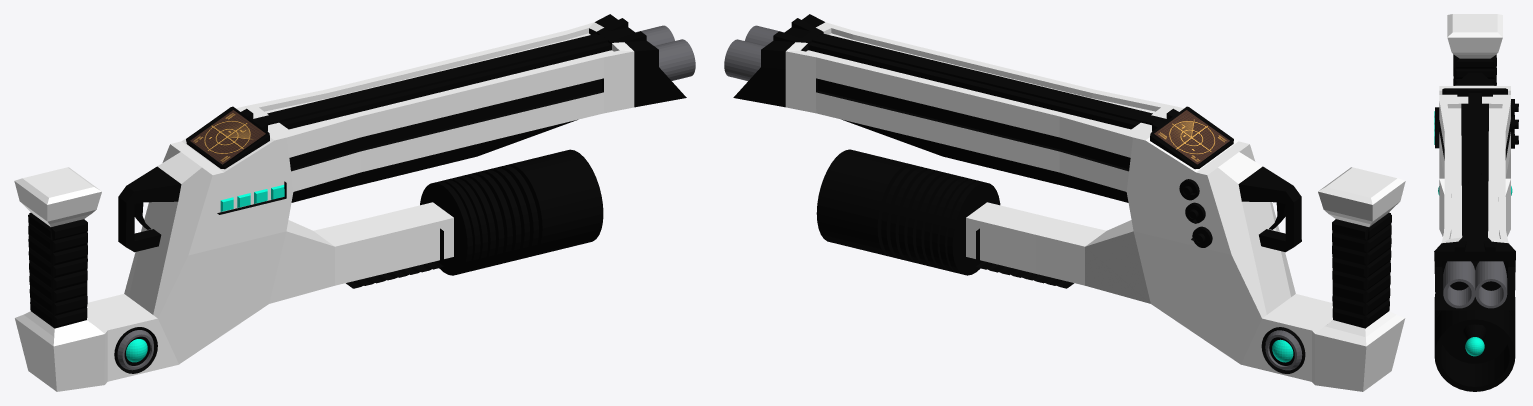
The model's file is Fagerone gun final.fbx.
The picture shows the model from 3 angles, left to right: view 1: azimuth 30°, elevation 25°; view 2: azimuth 150°, elevation 25°; view 3: azimuth 270°, elevation 25°; orthographic projection. The views are drawn at different scales.
Parts seen in each view (by area): view 1: Cube; view 2: Cube; view 3: Cube.
Part boxes in pixels (x1,y1,x2,y2): Cube: (14, 14, 695, 391); Cube: (724, 14, 1405, 391); Cube: (1434, 14, 1518, 391).
Bounding box in the file's own units: 5.45 × 1.71 × 0.7348.
Materials: 2 (2 with a texture image).
